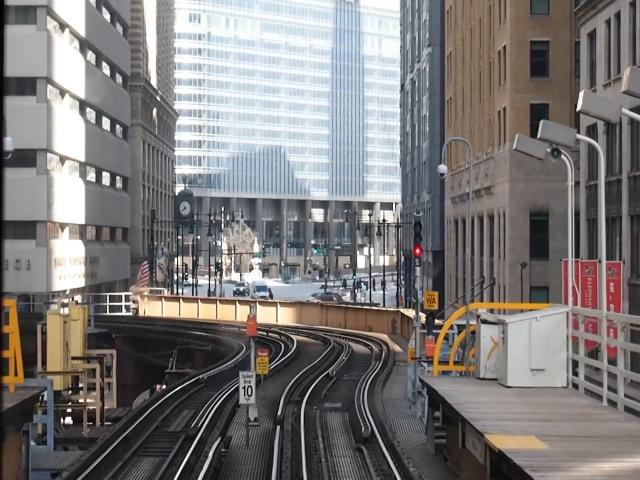signal light: (412, 219, 425, 268)
